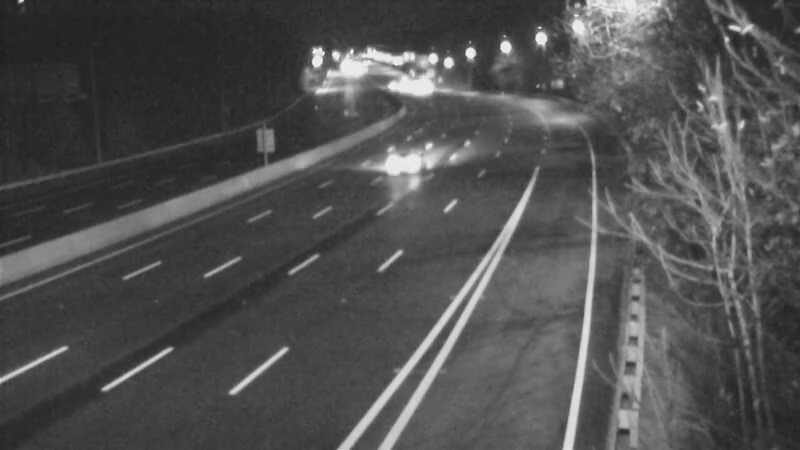vehicle: (358, 124, 438, 204)
